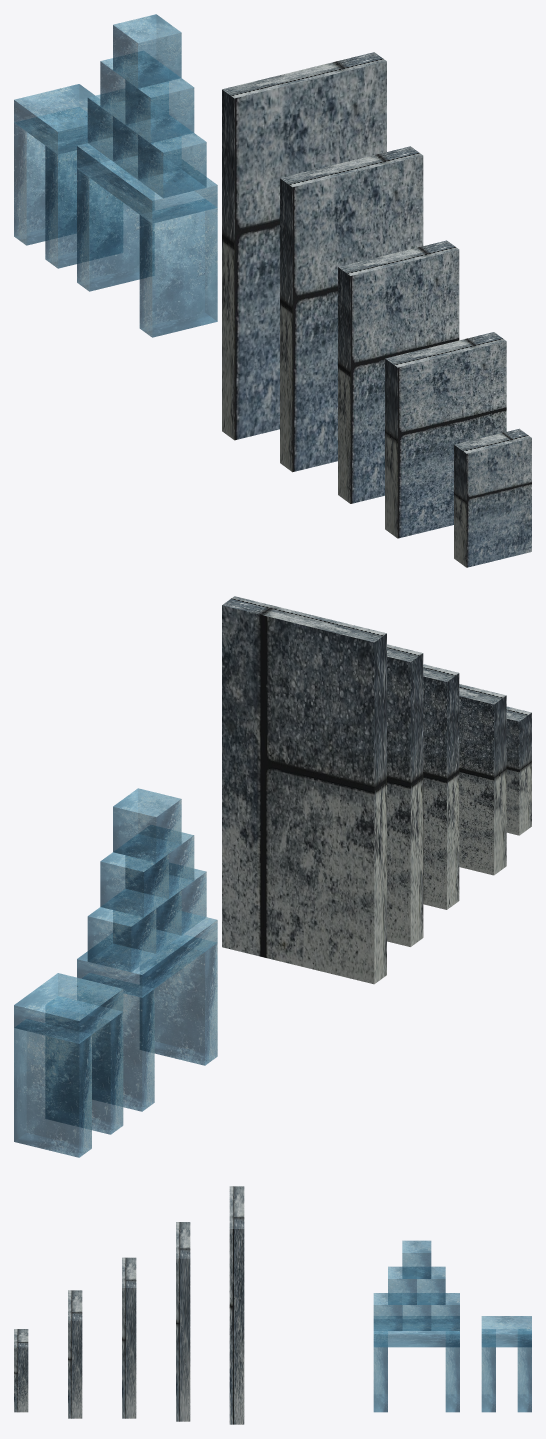
The model's file is Domino.glb.
3 renders of one model, top to bottom at view 1: azimuth 30°, elevation 25°; view 2: azimuth 150°, elevation 25°; view 3: azimuth 270°, elevation 25°, orthographic. The views are drawn at different scales.
Parts seen in each view (by area): view 1: Cube.004, Cube.003, Cube.002, Cube.001, Cube.006, Cube, Cube.007, Cube.005, Cube.010, Cube.008, Cube.009, Cube.016 (+5 smaller); view 2: Cube.004, Cube.003, Cube.010, Cube.005, Cube.002, Cube.001, Cube.006, Cube.007, Cube.008, Cube.009, Cube.013, Cube.016 (+5 smaller); view 3: Cube.004, Cube.003, Cube.008, Cube.002, Cube.001, Cube.009, Cube, Cube.010, Cube.005, Cube.006, Cube.007, Cube.016 (+5 smaller).
Boxes of the visible parts, x1=… form: Cube.004: x1=222, y1=52, x2=386, y2=440; Cube.003: x1=280, y1=146, x2=423, y2=472; Cube.002: x1=338, y1=240, x2=459, y2=503; Cube.001: x1=385, y1=332, x2=506, y2=538; Cube.006: x1=139, y1=199, x2=217, y2=337; Cube: x1=454, y1=428, x2=531, y2=567; Cube.007: x1=77, y1=160, x2=153, y2=291; Cube.005: x1=45, y1=136, x2=122, y2=268; Cube.010: x1=14, y1=107, x2=86, y2=245; Cube.008: x1=77, y1=137, x2=217, y2=223; Cube.009: x1=14, y1=84, x2=112, y2=154; Cube.016: x1=113, y1=14, x2=181, y2=88; Cube.004: x1=222, y1=596, x2=386, y2=984; Cube.003: x1=387, y1=644, x2=423, y2=946; Cube.010: x1=14, y1=1019, x2=91, y2=1157; Cube.005: x1=46, y1=996, x2=123, y2=1134; Cube.002: x1=423, y1=664, x2=459, y2=909; Cube.001: x1=459, y1=684, x2=506, y2=875; Cube.006: x1=140, y1=935, x2=217, y2=1065; Cube.007: x1=77, y1=973, x2=154, y2=1111; Cube.008: x1=77, y1=911, x2=217, y2=997; Cube.009: x1=14, y1=973, x2=123, y2=1043; Cube.013: x1=87, y1=898, x2=156, y2=971; Cube.016: x1=113, y1=788, x2=181, y2=862; Cube.004: x1=229, y1=1186, x2=244, y2=1424; Cube.003: x1=176, y1=1222, x2=190, y2=1421; Cube.008: x1=373, y1=1316, x2=459, y2=1347; Cube.002: x1=122, y1=1257, x2=136, y2=1418; Cube.001: x1=68, y1=1290, x2=82, y2=1418; Cube.009: x1=481, y1=1316, x2=531, y2=1347; Cube: x1=14, y1=1329, x2=28, y2=1412; Cube.010: x1=517, y1=1329, x2=531, y2=1412; Cube.005: x1=481, y1=1329, x2=495, y2=1412; Cube.006: x1=373, y1=1331, x2=387, y2=1412; Cube.007: x1=445, y1=1331, x2=459, y2=1412; Cube.016: x1=402, y1=1240, x2=431, y2=1278.
Size of the model in its own units: 2.8 by 6 by 14.4.
Materials: 8 (8 with a texture image).
